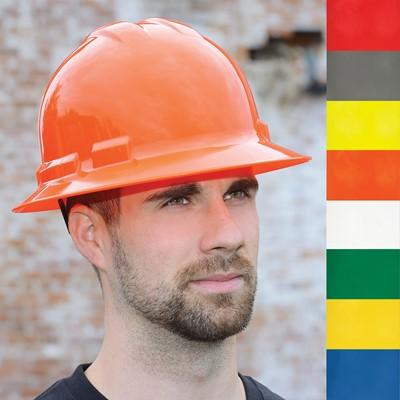helmet: (12, 20, 305, 198)
